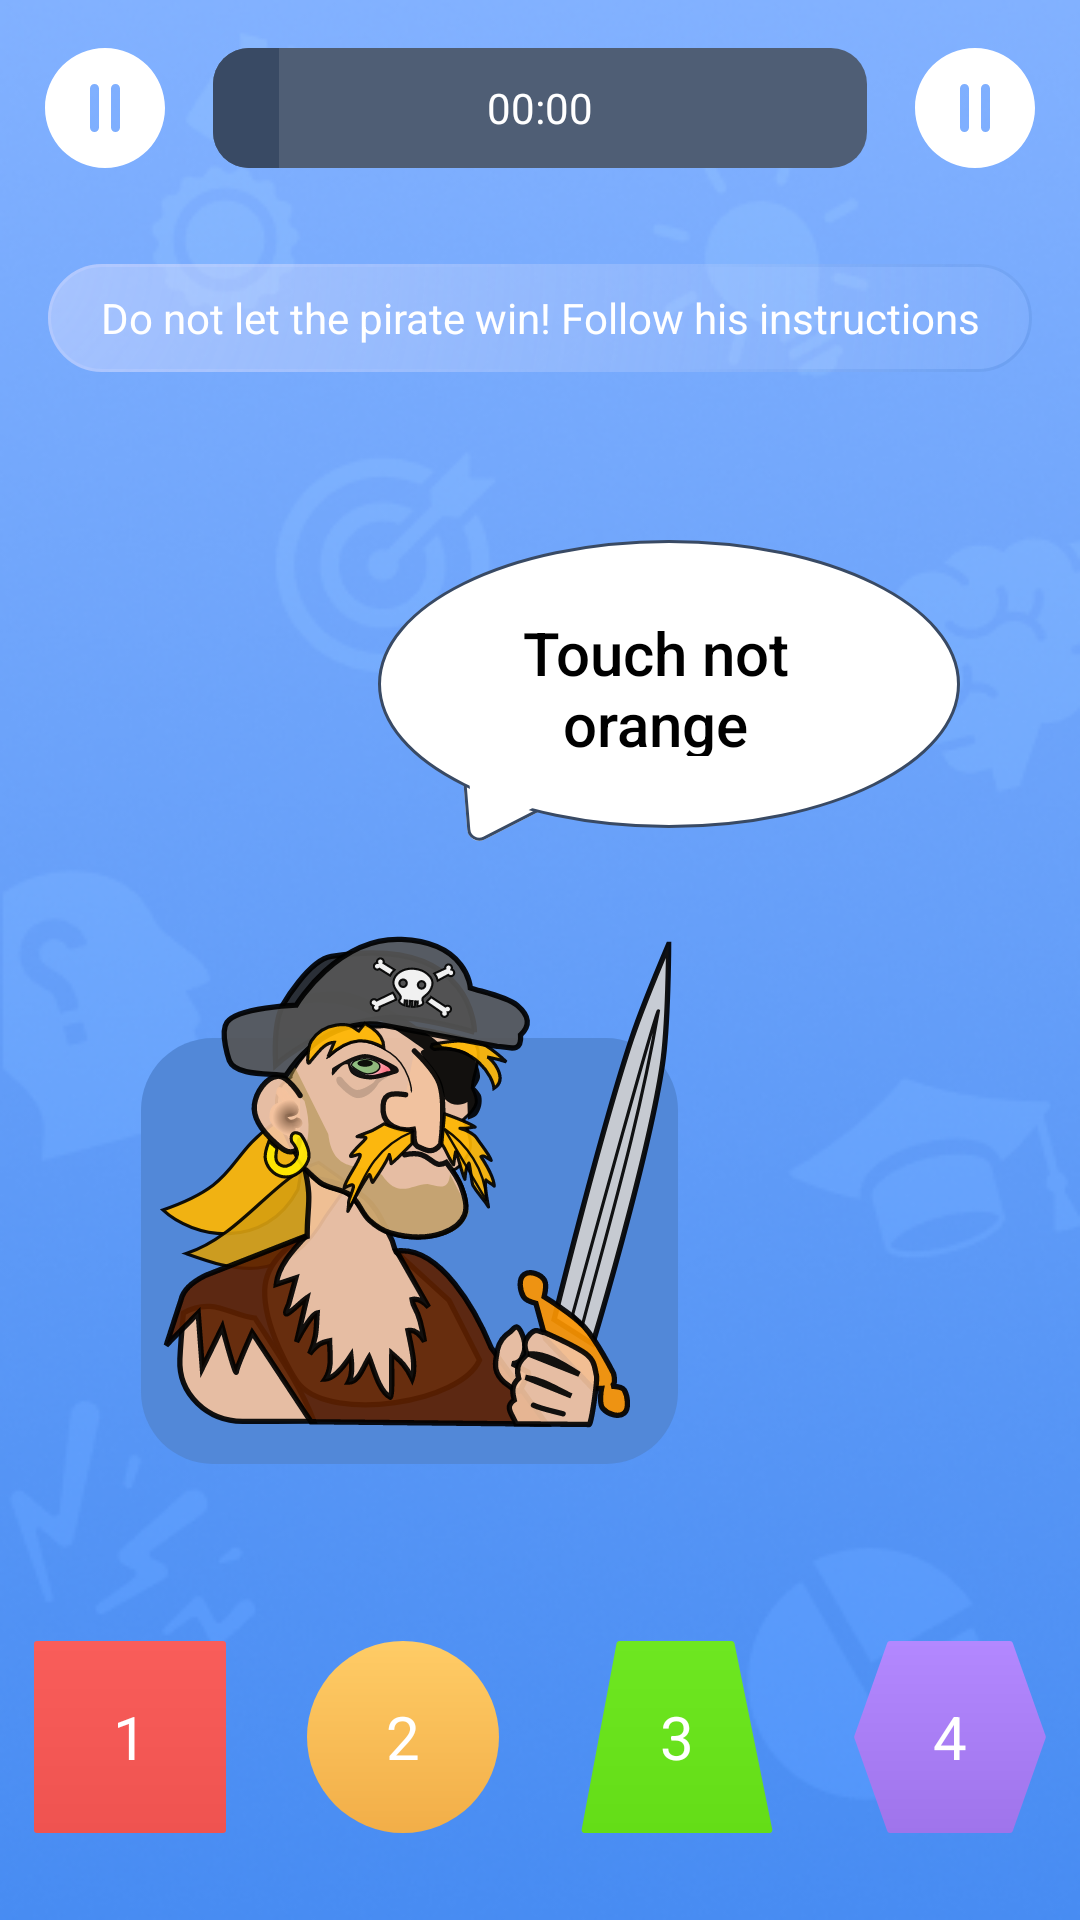

Icons on this 1080 × 1920 Android screen, each with its box as rect(x1, y1, x2, y2):
pause: rect(45, 48, 165, 168), rect(915, 48, 1035, 168)
